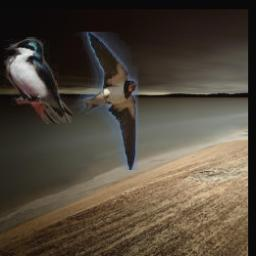Swallow: (60, 33, 139, 171), (4, 38, 73, 125)
